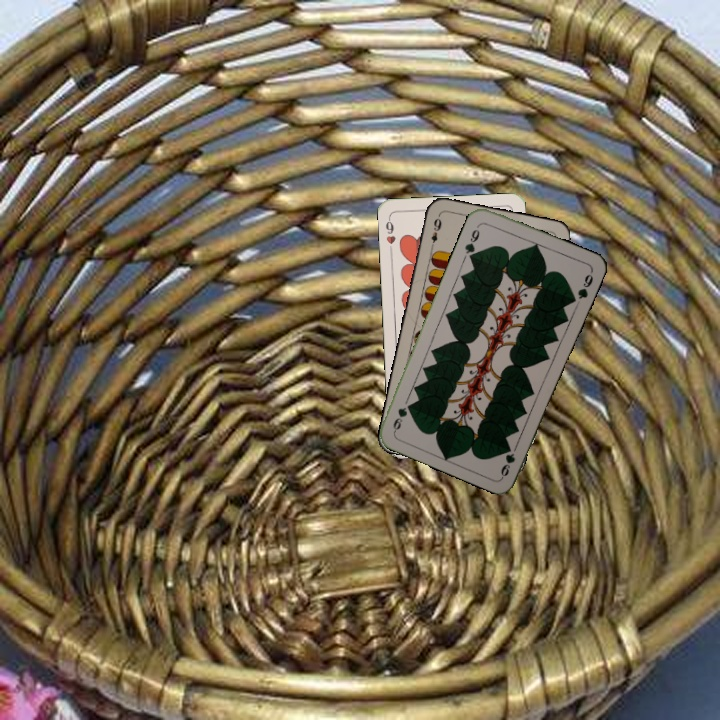E9: (427, 212, 444, 252)
G9: (461, 225, 482, 261), (497, 449, 518, 479)
H9: (382, 213, 398, 254)
